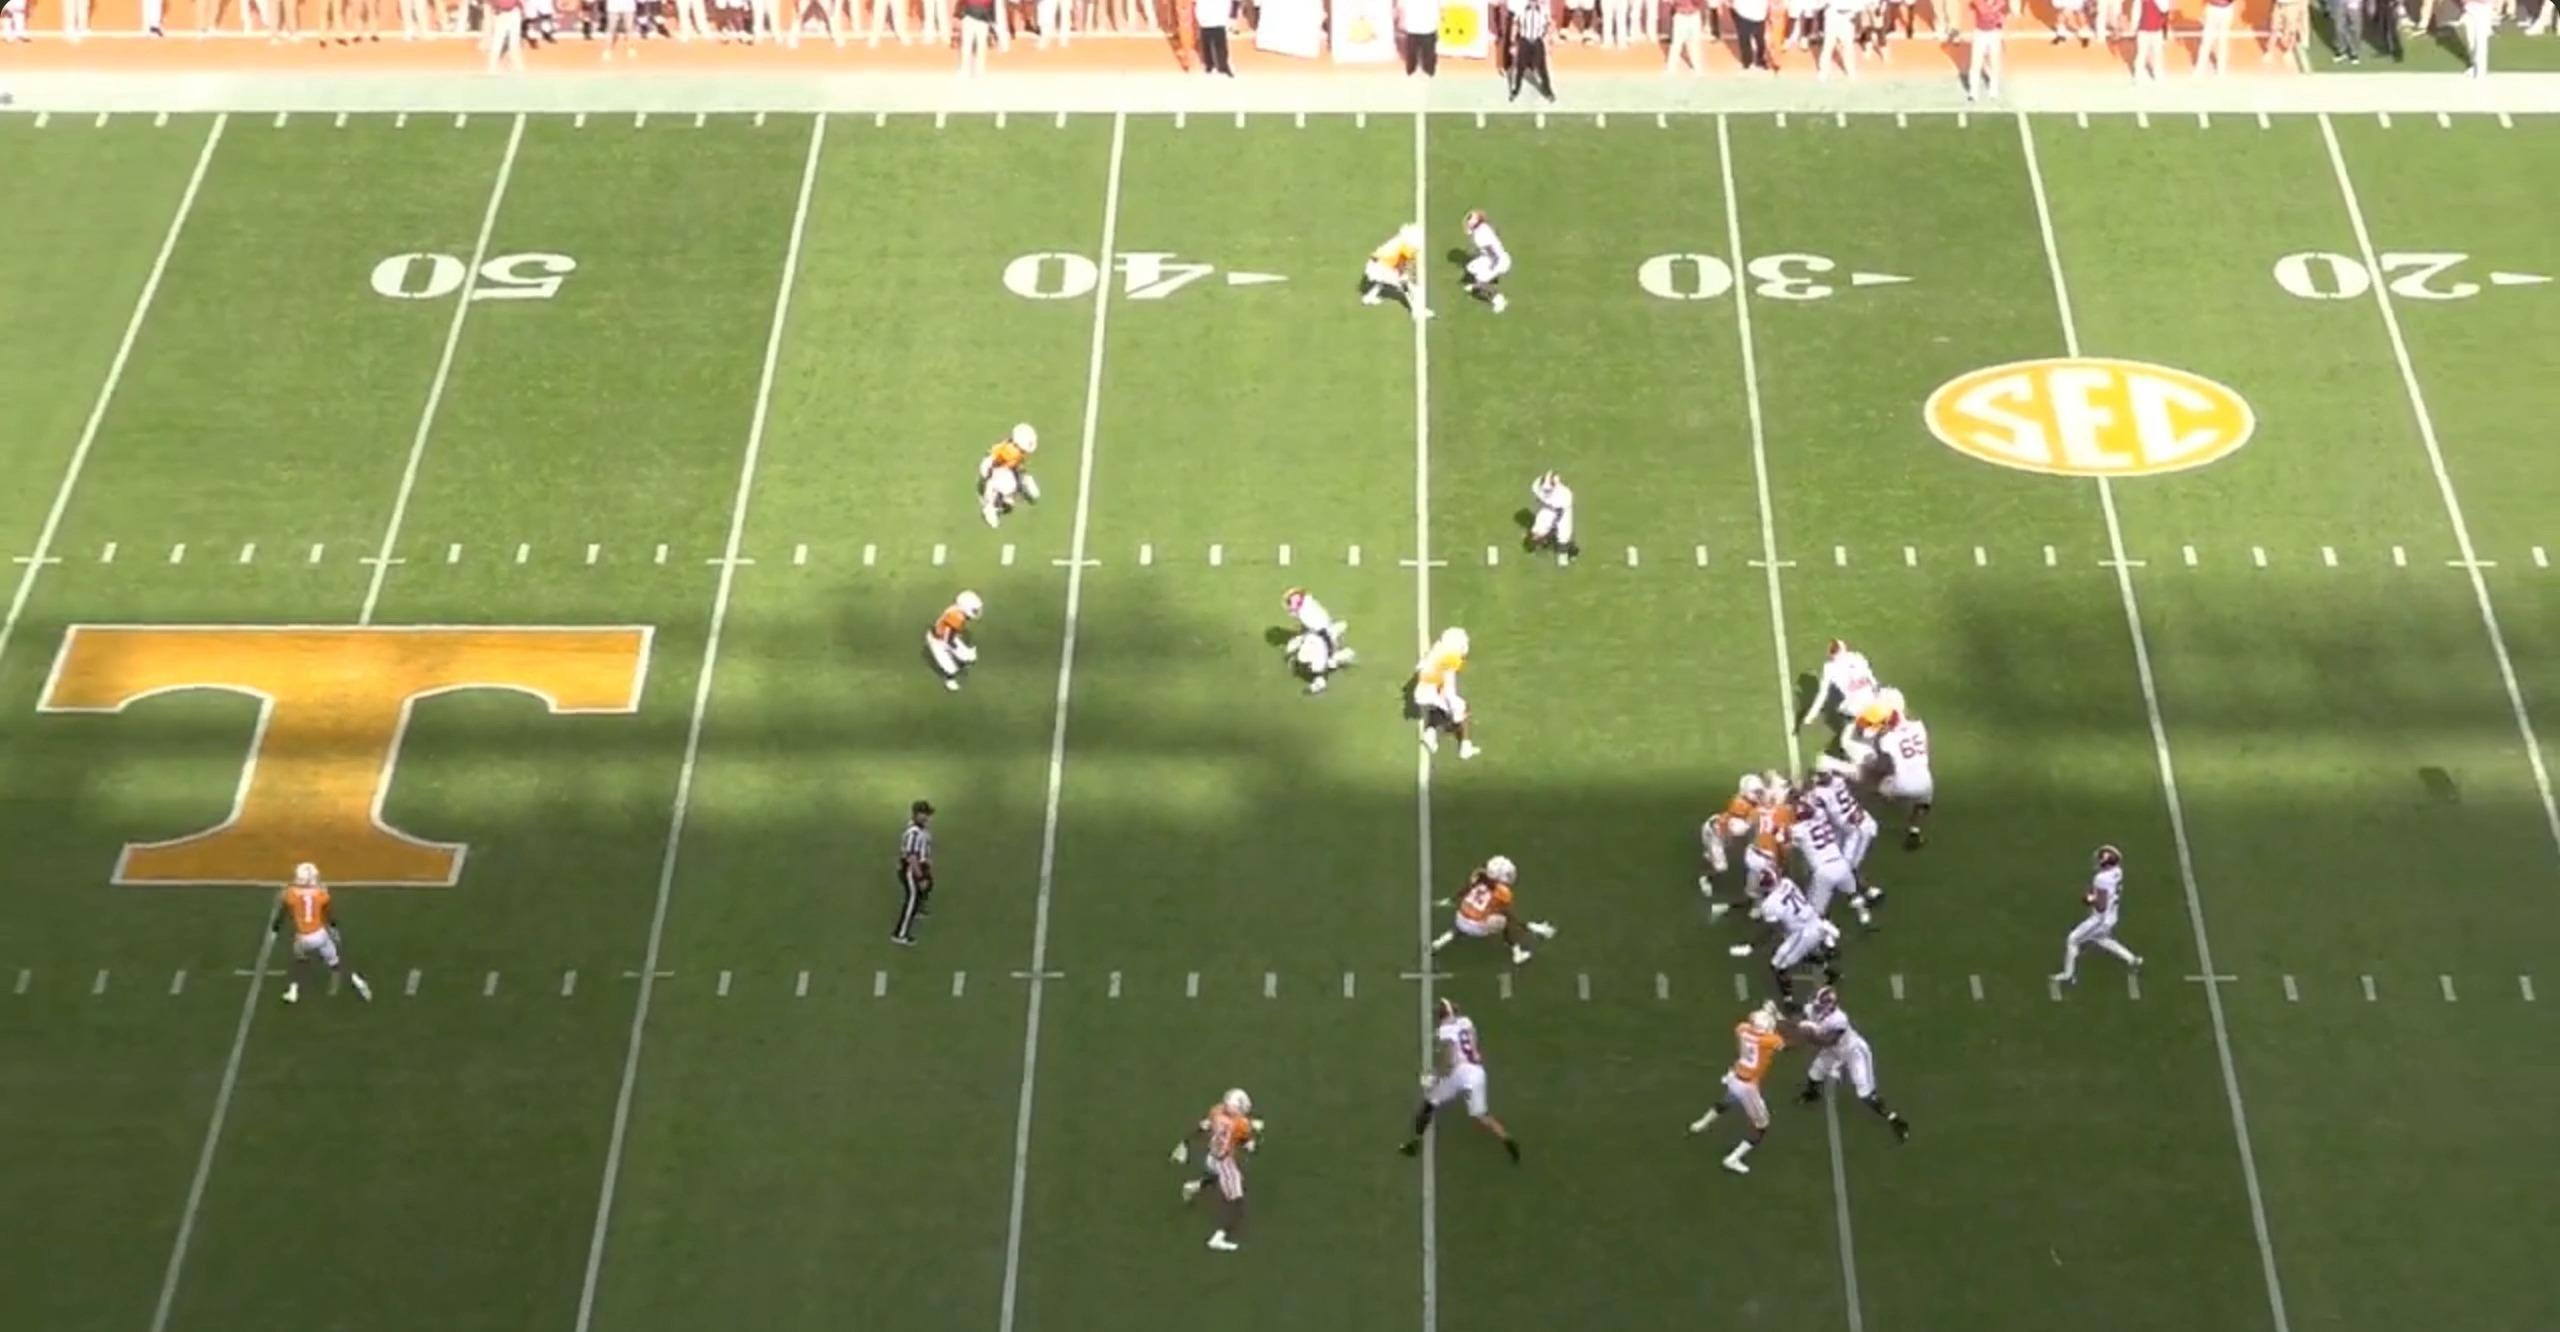defense: (1686, 1002, 1795, 1176), (1173, 1085, 1270, 1264), (1426, 855, 1561, 977), (1698, 770, 1801, 917), (274, 863, 378, 1009), (1395, 626, 1485, 765), (1785, 733, 1893, 821), (977, 420, 1053, 535), (1366, 218, 1443, 323), (919, 591, 989, 702), (1832, 687, 1922, 765)
oline: (1791, 988, 1913, 1149), (1746, 870, 1844, 1010), (1793, 770, 1884, 904), (1866, 707, 1947, 851), (1790, 806, 1874, 929)
qb: (2054, 836, 2155, 1002)
ref: (886, 801, 946, 960), (1488, 0, 1554, 112)
skill: (1393, 999, 1527, 1170), (1270, 586, 1358, 697), (1801, 638, 1881, 743), (1515, 462, 1590, 570), (1458, 208, 1522, 320)
